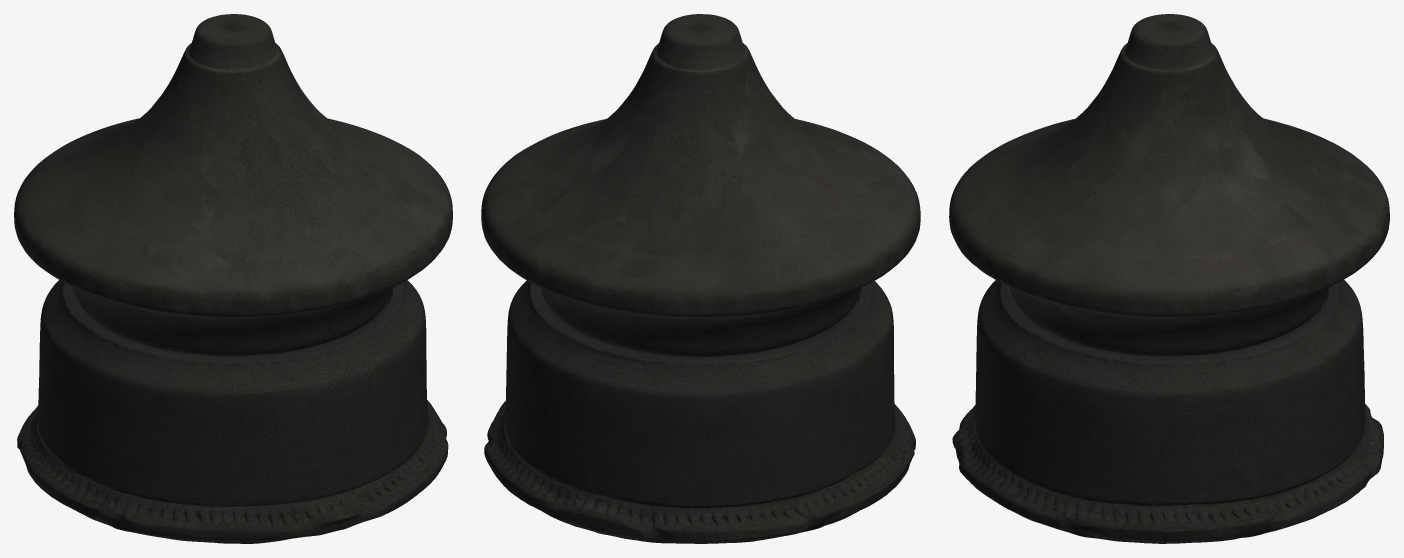
The model's file is perhapuran.glb.
3 views of the same model, side by side, from view 1: azimuth 30°, elevation 25°; view 2: azimuth 150°, elevation 25°; view 3: azimuth 270°, elevation 25° (orthographic).
Bounding box in the file's own units: 1.74 × 1.9 × 1.74.
1 material, 1 textured.
